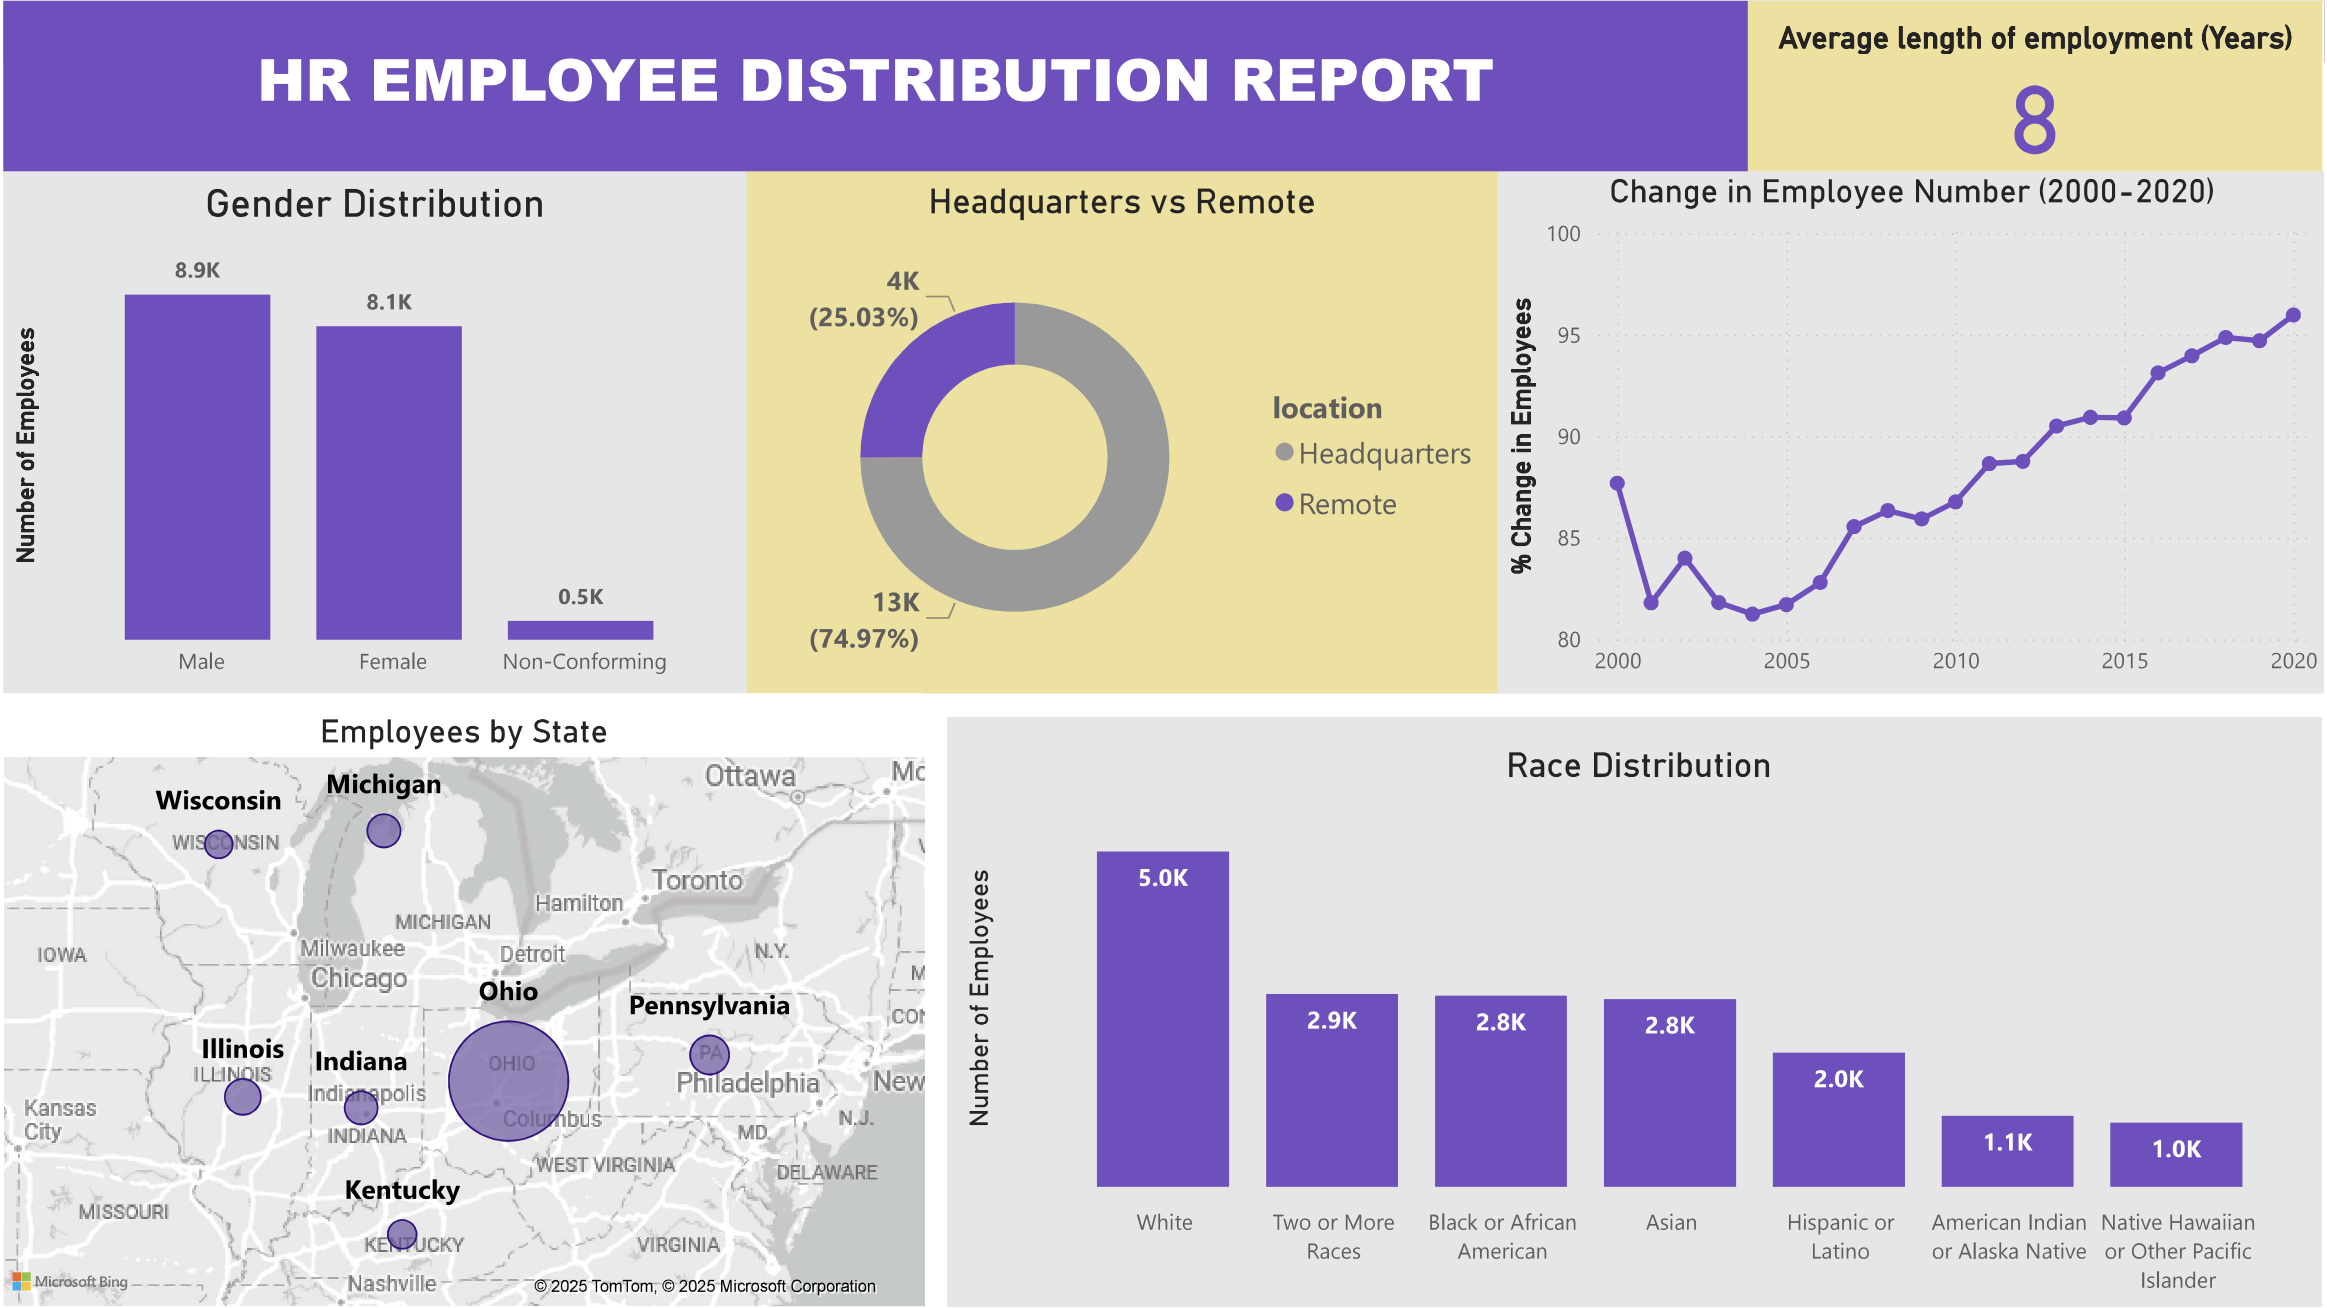

The page's visual inventory and layout, read from the dashboard file:
{"tool":"powerbi","page":{"name":"Page 1","canvas":[1280,720],"ordinal":0},"visuals":[{"type":"textbox","box":[0,0,961.8,93.9],"z":0},{"type":"card","title":"Average length of employment (Years)","fields":{"Values":["Sum(avg_length_employment.average)"]},"box":[961.8,0,317.4,93.9],"z":1000},{"type":"columnChart","title":"Gender Distribution","fields":{"Category":["Gender.gender"],"Y":["Sum(Gender.count)"]},"box":[0,93.9,409.7,288.2],"z":2000},{"type":"donutChart","title":"Headquarters vs Remote","fields":{"Y":["Sum(location.count)"],"Category":["location.location"]},"box":[409.7,93.9,414.5,288.2],"z":3000},{"type":"lineChart","title":"Change in Employee Number (2000-2020)","fields":{"Category":["employee_count.year"],"Y":["Sum(employee_count.net_change_percent)"]},"box":[824.2,93.9,456.6,288.2],"z":4000},{"type":"map","title":"Employees by State","fields":{"Size":["Sum(states.count)"],"Category":["states.location_state"]},"box":[0,382.1,508.4,338.4],"z":5000},{"type":"clusteredColumnChart","title":"Race Distribution","fields":{"Category":["Race.race"],"Y":["Sum(Race.count)"]},"box":[519.8,395.1,759.4,325.5],"z":6000}]}

Visuals, with their boxes in screenshot pixels (x1, y1, x2, y2), scaled from the page's 1280x720 canvas onto the 2327x1308 screenshot:
textbox: box(0, 0, 1749, 171)
"Average length of employment (Years)" card: box(1749, 0, 2326, 171)
"Gender Distribution" columnChart: box(0, 171, 745, 694)
"Headquarters vs Remote" donutChart: box(745, 171, 1498, 694)
"Change in Employee Number (2000-2020)" lineChart: box(1498, 171, 2326, 694)
"Employees by State" map: box(0, 694, 924, 1307)
"Race Distribution" clusteredColumnChart: box(945, 718, 2326, 1307)
